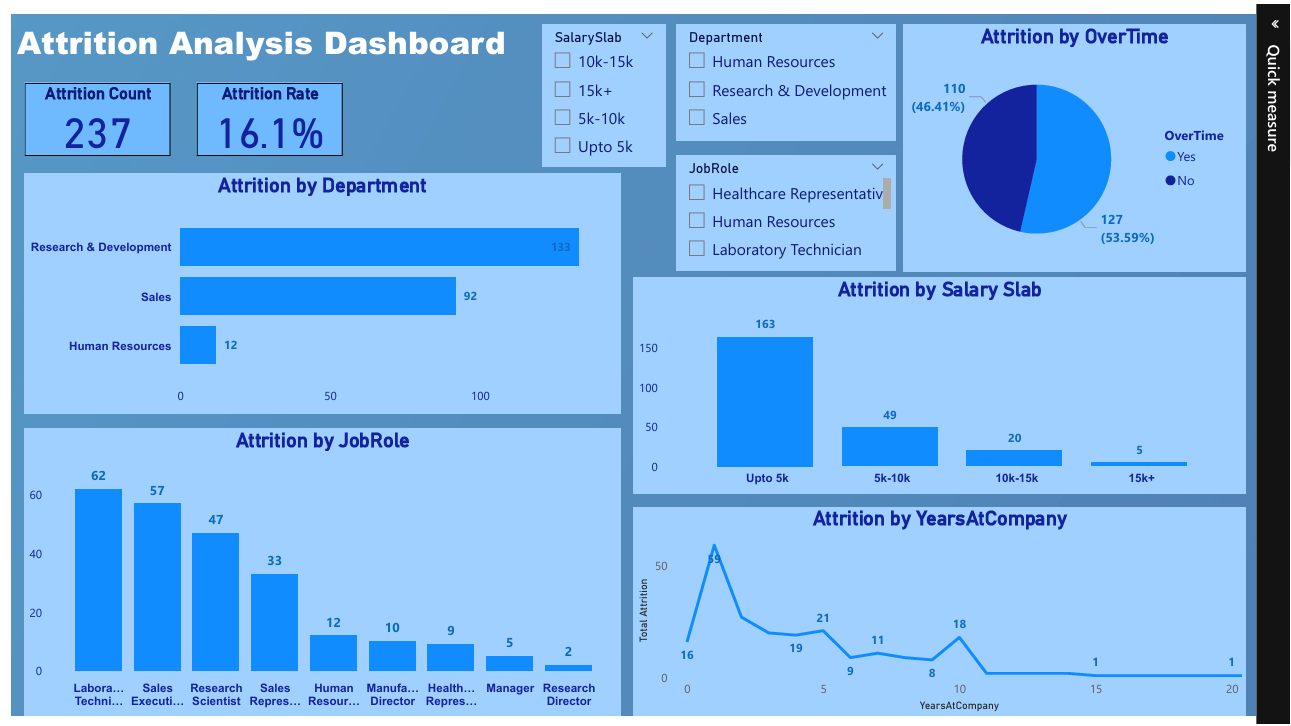

Layout of this report page (visuals, bound fields, positions):
{"tool":"powerbi","page":{"name":"Page 2","canvas":[1280,720],"ordinal":1},"visuals":[{"type":"textbox","box":[0,0,530.3,56.9],"z":0},{"type":"card","title":"Attrition Count","fields":{"Values":["HR_Analytics.Total Attrition"]},"box":[13,69.9,149.6,74.8],"z":1000},{"type":"card","title":"Attrition Rate","fields":{"Values":["HR_Analytics.Attrition Rate"]},"box":[190.3,69.9,149.6,74.8],"z":2000},{"type":"barChart","title":"Attrition by Department","fields":{"Category":["HR_Analytics.Department"],"Y":["HR_Analytics.Total Attrition"]},"box":[13,162.7,613.2,247.2],"z":3000},{"type":"columnChart","title":"Attrition by JobRole","fields":{"Y":["HR_Analytics.Total Attrition"],"Category":["HR_Analytics.JobRole"]},"box":[13,424.5,613.2,296],"z":4000},{"type":"columnChart","title":"Attrition by Salary Slab","fields":{"Category":["HR_Analytics.SalarySlab"],"Y":["HR_Analytics.Total Attrition"]},"box":[639.2,270,629.5,222.8],"z":5000},{"type":"pieChart","title":"Attrition by OverTime","fields":{"Y":["HR_Analytics.Total Attrition"],"Category":["HR_Analytics.OverTime"]},"box":[917.4,9.8,351.3,253.7],"z":6000},{"type":"lineChart","title":"Attrition by YearsAtCompany","fields":{"Y":["HR_Analytics.Total Attrition"],"Category":["HR_Analytics.YearsAtCompany"]},"box":[639.2,505.9,629.5,214.7],"z":7000},{"type":"slicer","fields":{"Values":["HR_Analytics.Department"]},"box":[683.1,9.8,226.1,120.4],"z":8000},{"type":"slicer","fields":{"Values":["HR_Analytics.JobRole"]},"box":[683.1,144.8,226.1,118.7],"z":9000},{"type":"slicer","fields":{"Values":["HR_Analytics.SalarySlab"]},"box":[544.9,9.8,126.9,146.4],"z":10000}]}

Visuals, with their boxes in screenshot pixels (x1, y1, x2, y2):
textbox: bbox=(0, 3, 521, 60)
"Attrition Count" card: bbox=(6, 73, 155, 147)
"Attrition Rate" card: bbox=(183, 73, 331, 147)
"Attrition by Department" barChart: bbox=(6, 165, 616, 411)
"Attrition by JobRole" columnChart: bbox=(6, 426, 616, 720)
"Attrition by Salary Slab" columnChart: bbox=(629, 272, 1255, 494)
"Attrition by OverTime" pieChart: bbox=(906, 13, 1255, 265)
"Attrition by YearsAtCompany" lineChart: bbox=(629, 507, 1255, 720)
slicer - HR_Analytics.Department: bbox=(673, 13, 898, 133)
slicer - HR_Analytics.JobRole: bbox=(673, 147, 898, 265)
slicer - HR_Analytics.SalarySlab: bbox=(535, 13, 661, 159)
